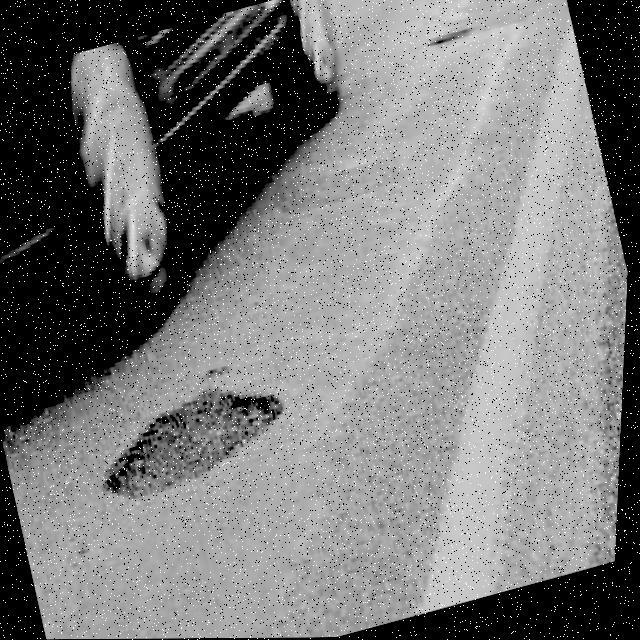pothole: (82, 365, 314, 518)
